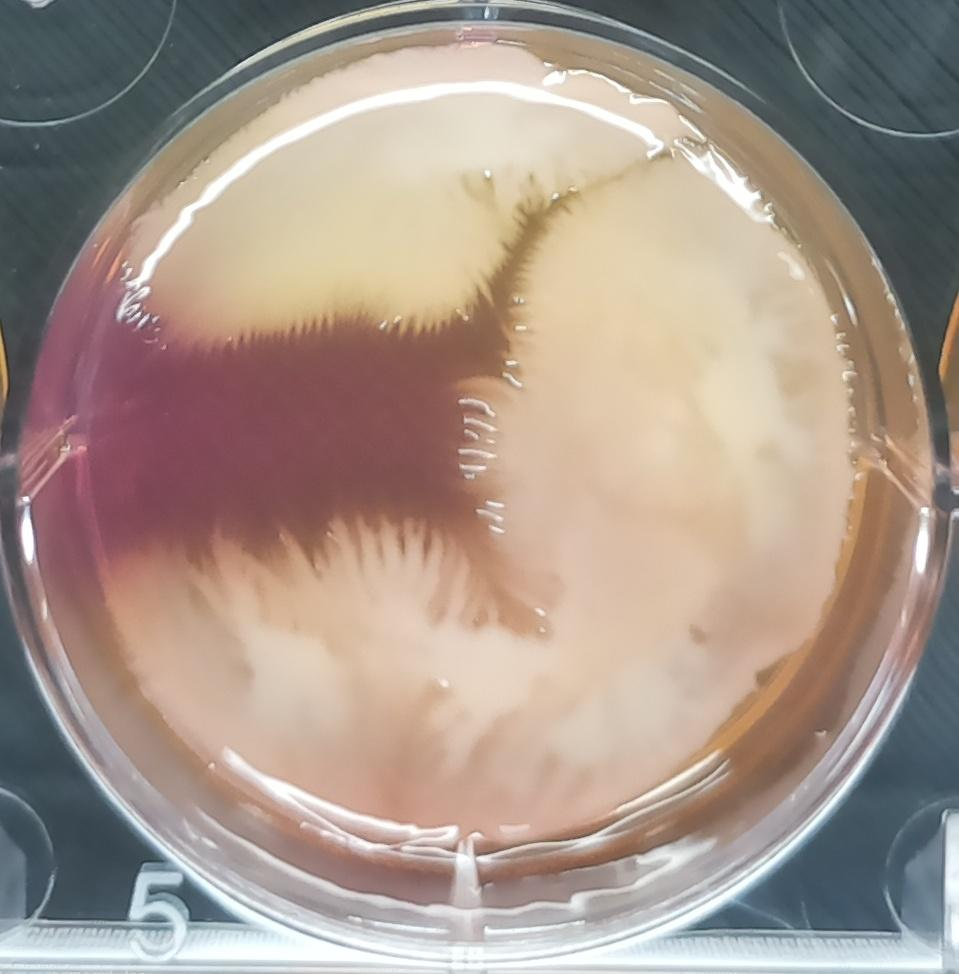vproteolyticus: (427, 112, 879, 665), (78, 505, 763, 868), (95, 38, 682, 366)
